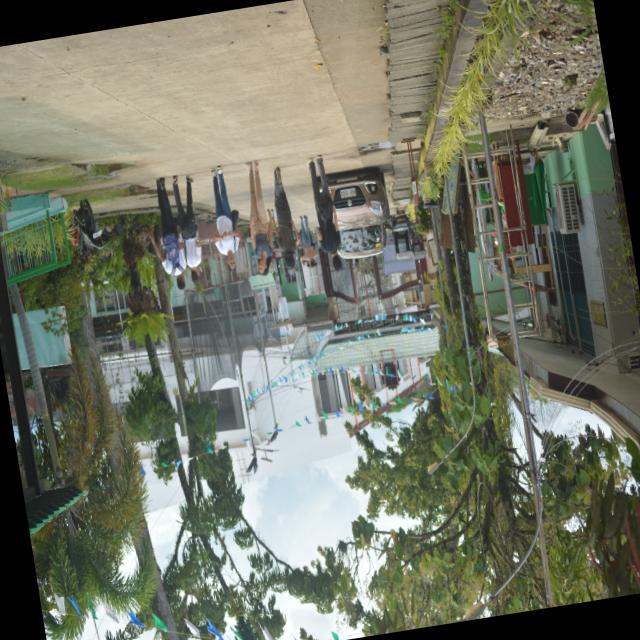person: (307, 155, 341, 270), (151, 178, 185, 289), (172, 175, 200, 282), (211, 165, 239, 270), (246, 161, 272, 274), (271, 167, 297, 267), (300, 216, 316, 266)
